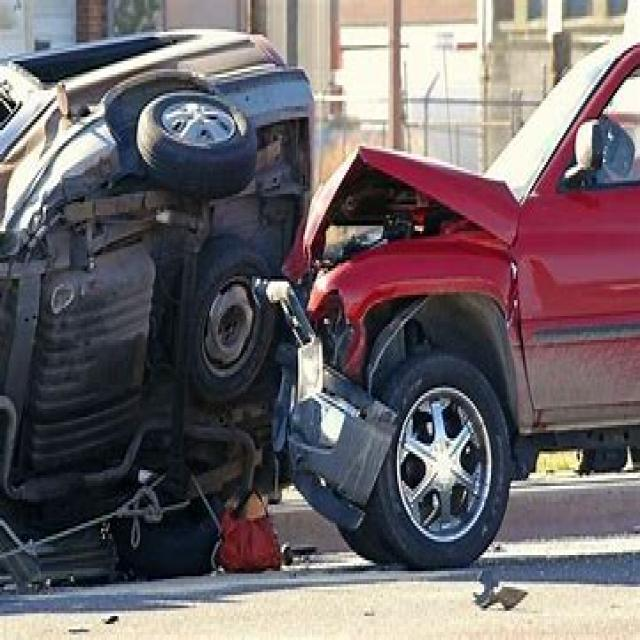Accident: (64, 13, 558, 640)
